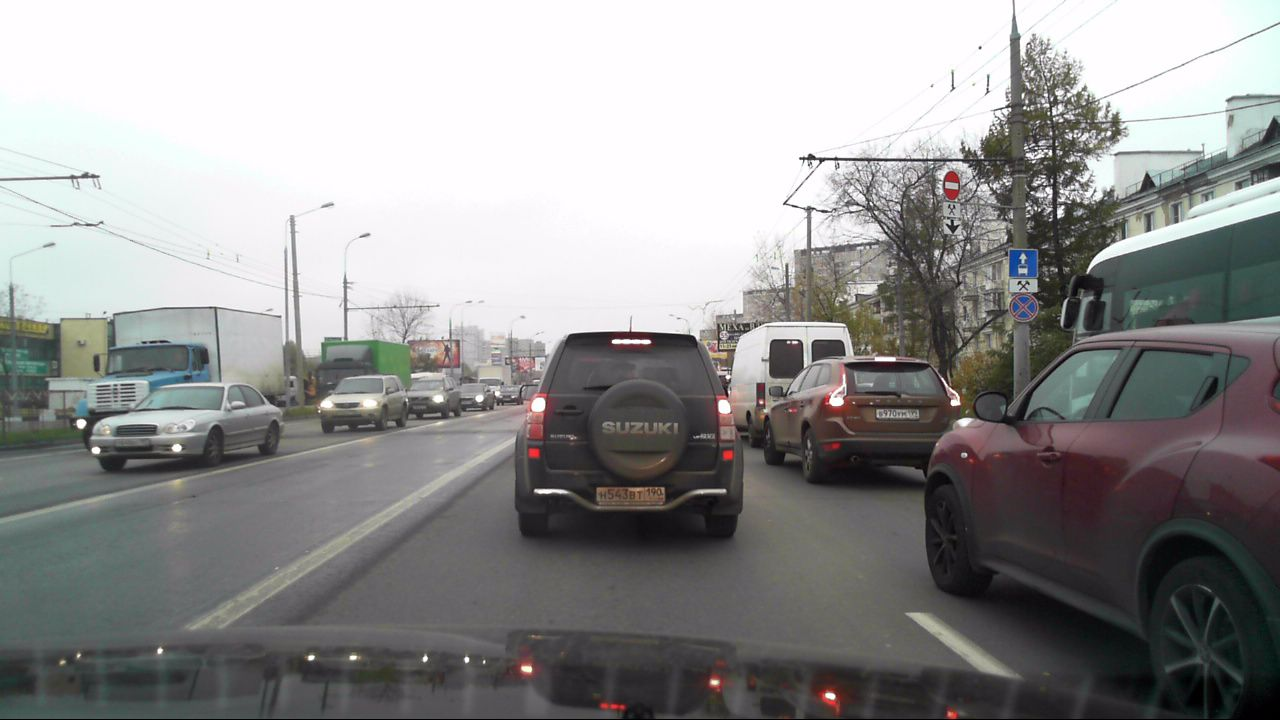No Parking: (1008, 294, 1036, 324)
